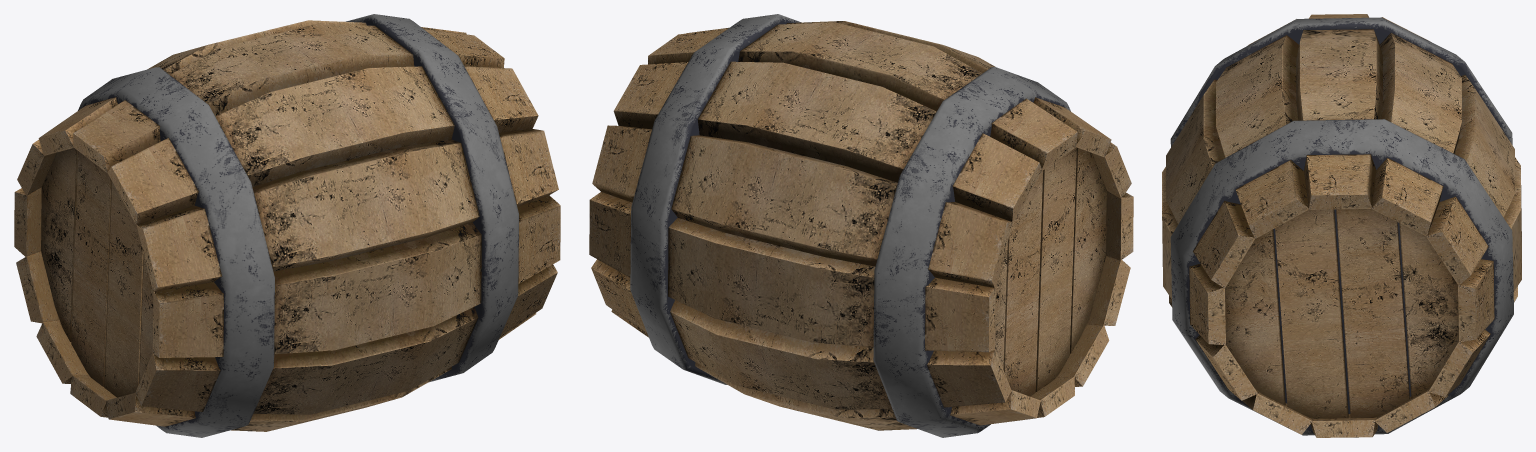
File: Obstacle-4.fbx
3 views of the same model, side by side, from view 1: azimuth 30°, elevation 25°; view 2: azimuth 150°, elevation 25°; view 3: azimuth 270°, elevation 25° (orthographic). The views are drawn at different scales.
Parts seen in each view (by area): view 1: Obstacle-4; view 2: Obstacle-4; view 3: Obstacle-4.
Part boxes in pixels (x1=…): Obstacle-4: x1=14, y1=14, x2=560, y2=437; Obstacle-4: x1=589, y1=14, x2=1133, y2=437; Obstacle-4: x1=1162, y1=14, x2=1521, y2=437.
Bounding box in the file's own units: 0.7439 × 0.6256 × 0.6256.
